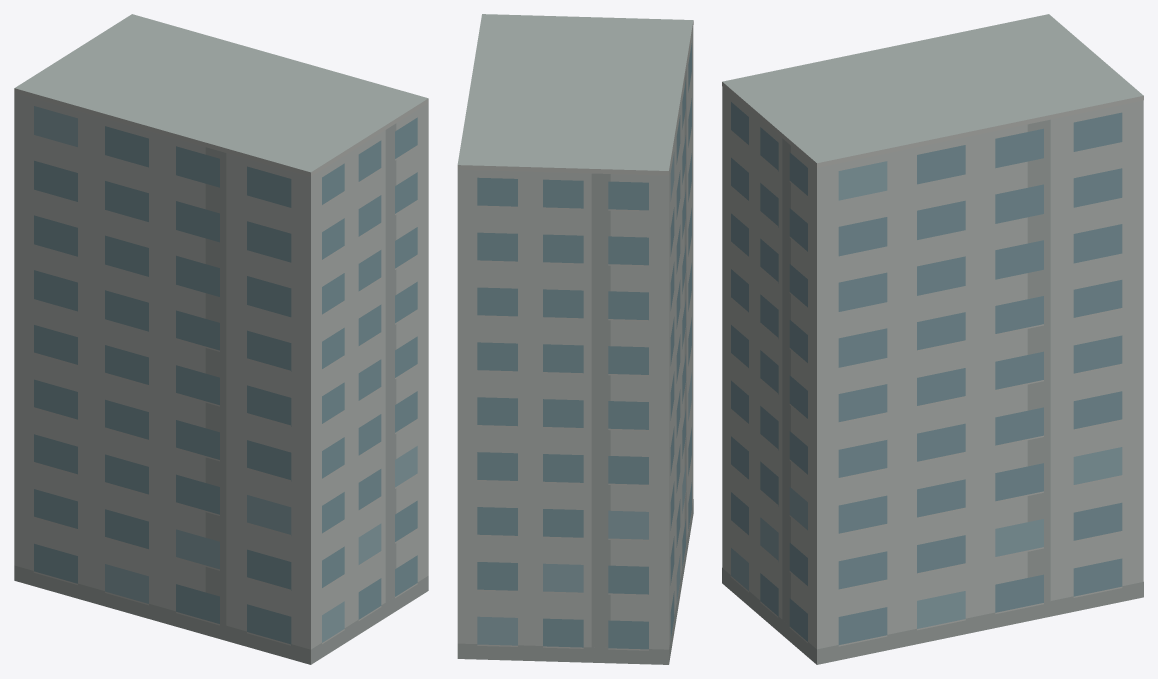
File: residential-d7b1dc07-4876-4703-8b1b-e5dd3f87fe25.glb
The picture shows the model from 3 angles, left to right: view 1: azimuth 30°, elevation 25°; view 2: azimuth 150°, elevation 25°; view 3: azimuth 270°, elevation 25°; orthographic projection.
Parts seen in each view (by area): view 1: residential-d7b1dc07-4876-4703-8b1b-e5dd3f87fe25.tmp; view 2: residential-d7b1dc07-4876-4703-8b1b-e5dd3f87fe25.tmp; view 3: residential-d7b1dc07-4876-4703-8b1b-e5dd3f87fe25.tmp.
Part boxes in pixels (<box>): residential-d7b1dc07-4876-4703-8b1b-e5dd3f87fe25.tmp: <box>14,14,428,664</box>; residential-d7b1dc07-4876-4703-8b1b-e5dd3f87fe25.tmp: <box>457,14,693,664</box>; residential-d7b1dc07-4876-4703-8b1b-e5dd3f87fe25.tmp: <box>722,14,1143,664</box>.
Bounding box in the file's own units: 16.6 × 26 × 19.81.
